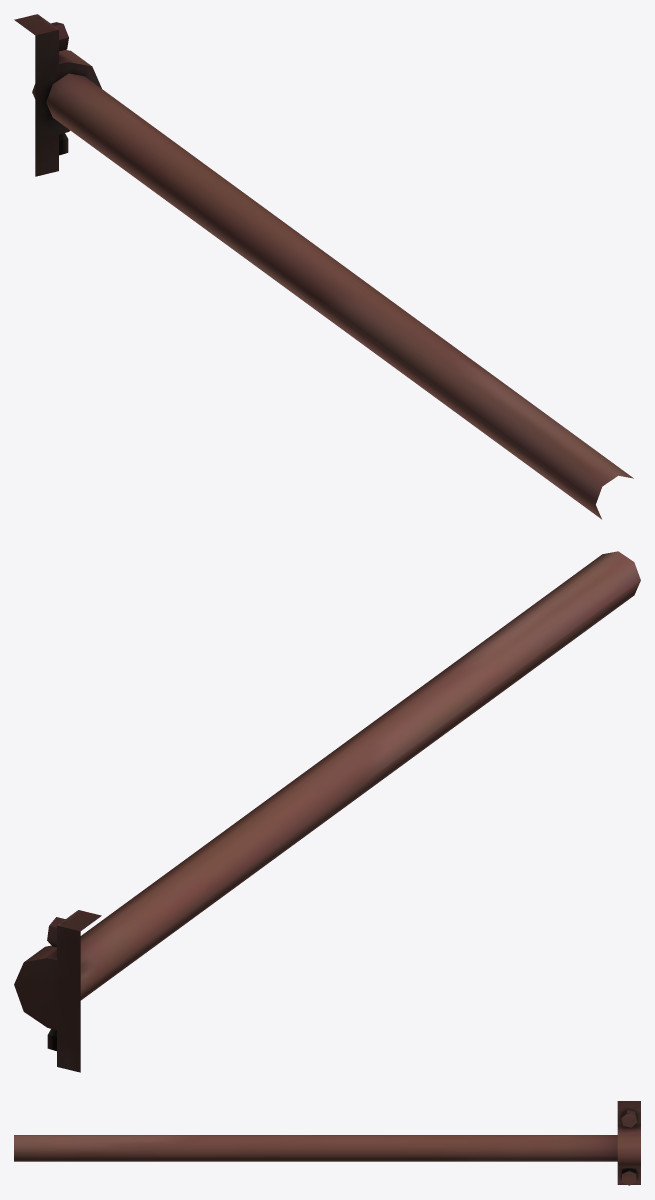
3 views of the same model, one above another, from view 1: azimuth 30°, elevation 25°; view 2: azimuth 150°, elevation 25°; view 3: azimuth 270°, elevation 25° (orthographic). The views are drawn at different scales.
Visible parts, largest first — view 1: body0_model0_lod0_mesh0; view 2: body0_model0_lod0_mesh0; view 3: body0_model0_lod0_mesh0.
Boxes of the visible parts, box(x1,y1,x2,y2) form: body0_model0_lod0_mesh0: box(14, 14, 633, 519); body0_model0_lod0_mesh0: box(14, 551, 640, 1072); body0_model0_lod0_mesh0: box(14, 1101, 640, 1185).
Size of the model in its own units: 4.32 by 8.74 by 64.
1 material, 1 textured.
